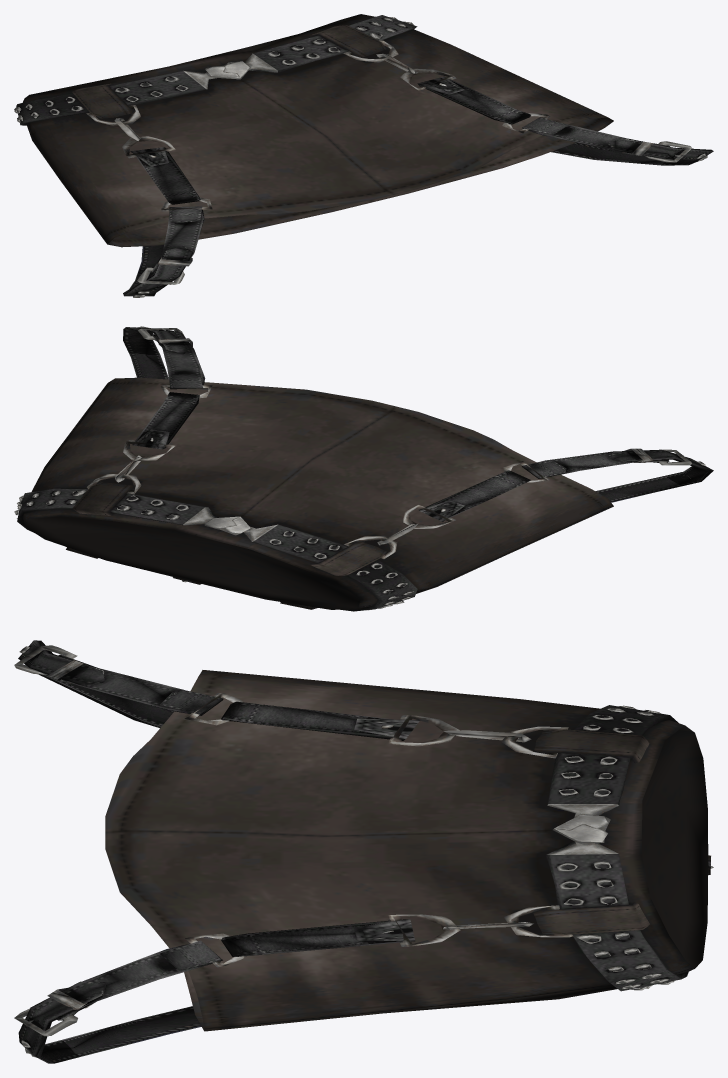
The model's file is SuspendersSkirt_Ground.fbx.
The picture shows the model from 3 angles, top to bottom: view 1: azimuth 30°, elevation 25°; view 2: azimuth 150°, elevation 25°; view 3: azimuth 270°, elevation 25°; orthographic projection. The views are drawn at different scales.
Parts seen in each view (by area): view 1: SuspendersSkirt; view 2: SuspendersSkirt; view 3: SuspendersSkirt.
Boxes of the visible parts, x1,y1,x2,y2 form: SuspendersSkirt: (14,14,713,297); SuspendersSkirt: (14,326,713,611); SuspendersSkirt: (14,640,713,1063).
Bounding box in the file's own units: 0.2779 × 0.0152 × 0.1977.
